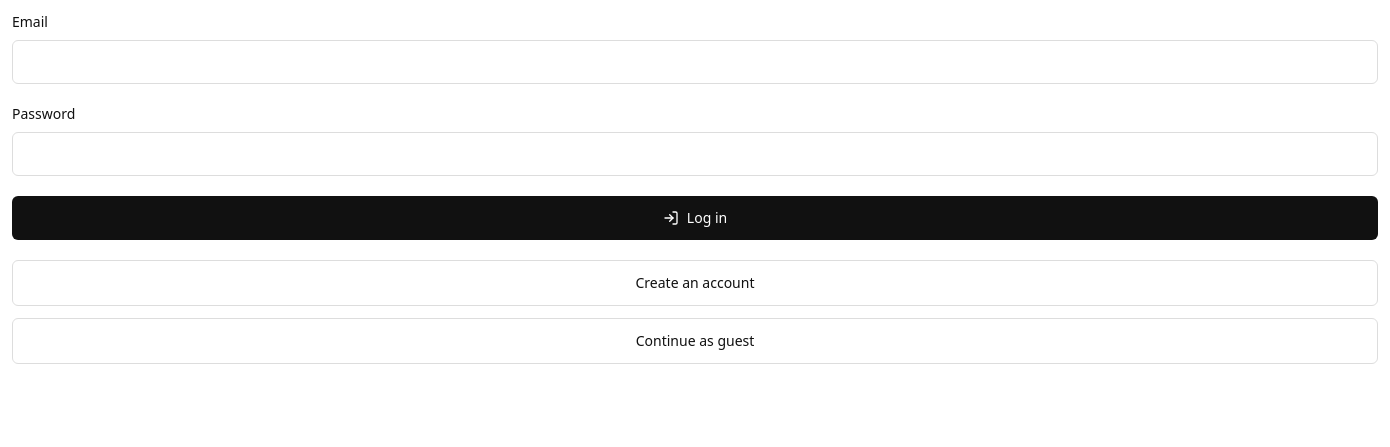
Test case: LoginForm › shows the rate-limit message
The image size is (1390, 447).
Step 1. Type "alice@example.com" into the field labelled "Email" → (695, 62), box left=12, top=40, right=1378, bottom=84
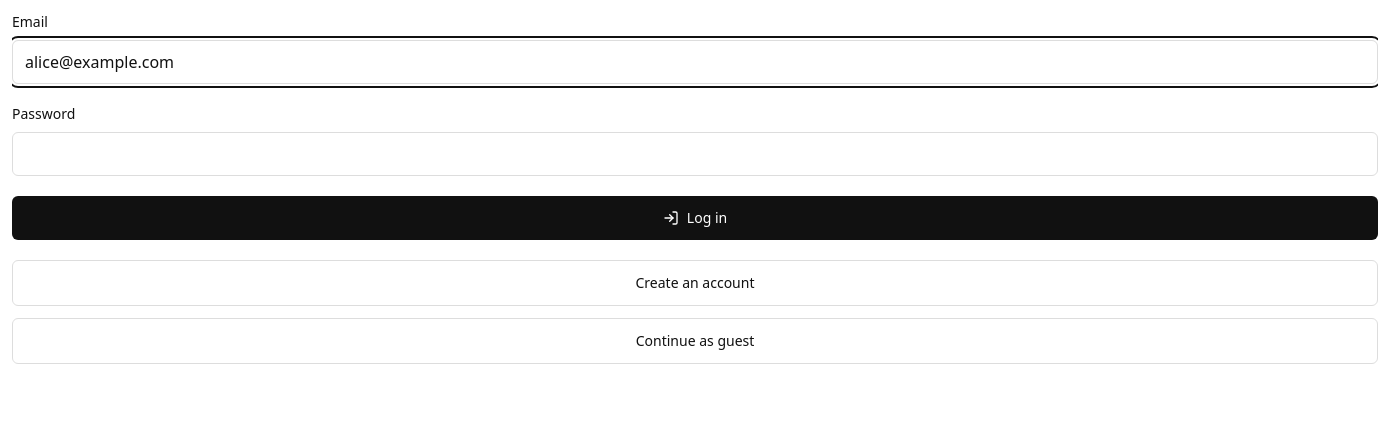
Step 2. Type "guess1234" into the password field labelled "Password" → (695, 154), box left=12, top=132, right=1378, bottom=176
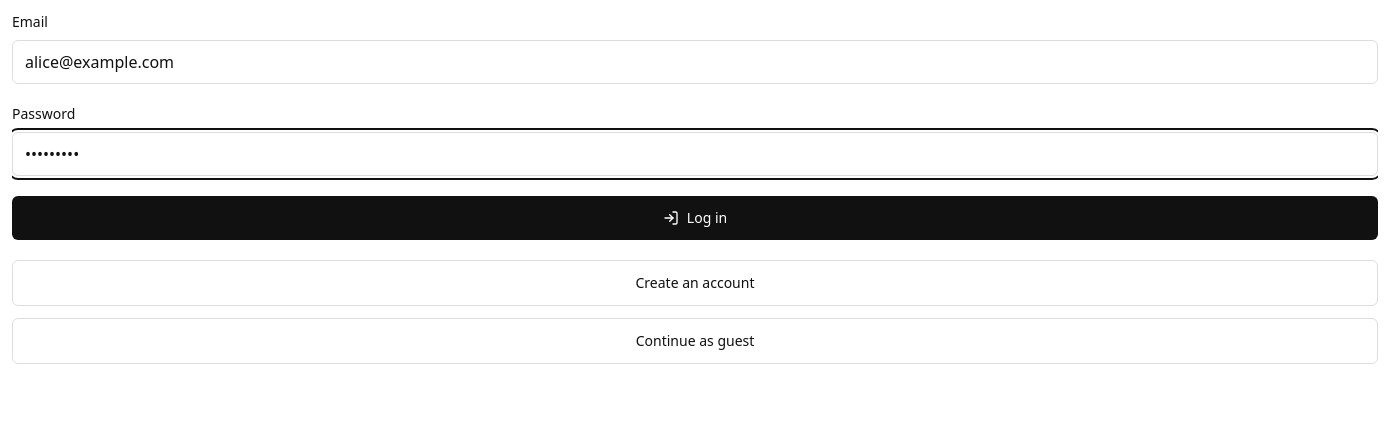
Step 3. Click the button "Log in" → (695, 218), box left=12, top=196, right=1378, bottom=240
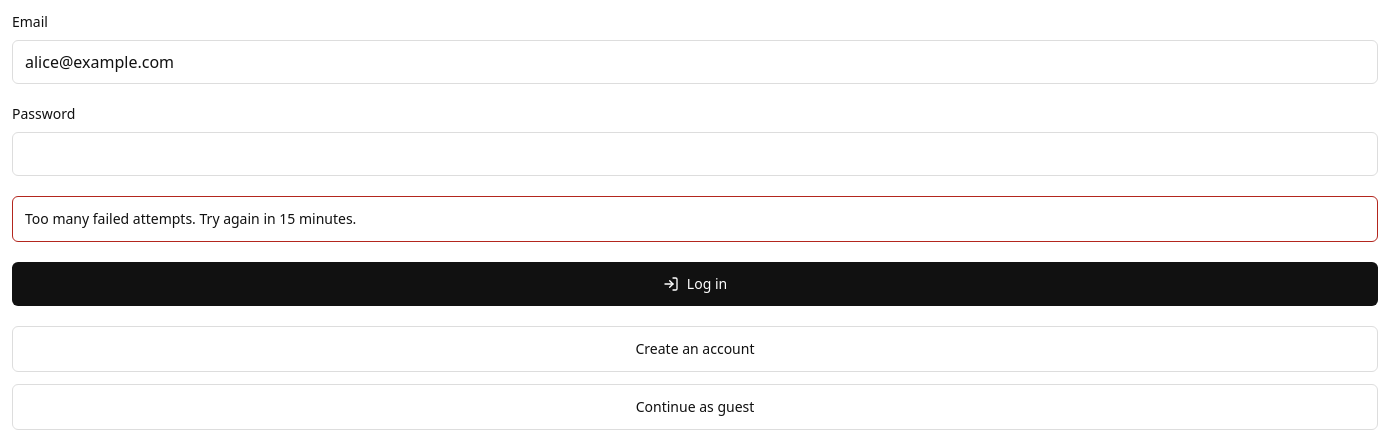
Expected: the message reads "Too many failed attempts. Try again in 15 minutes.", left=25, top=209, right=356, bottom=228
